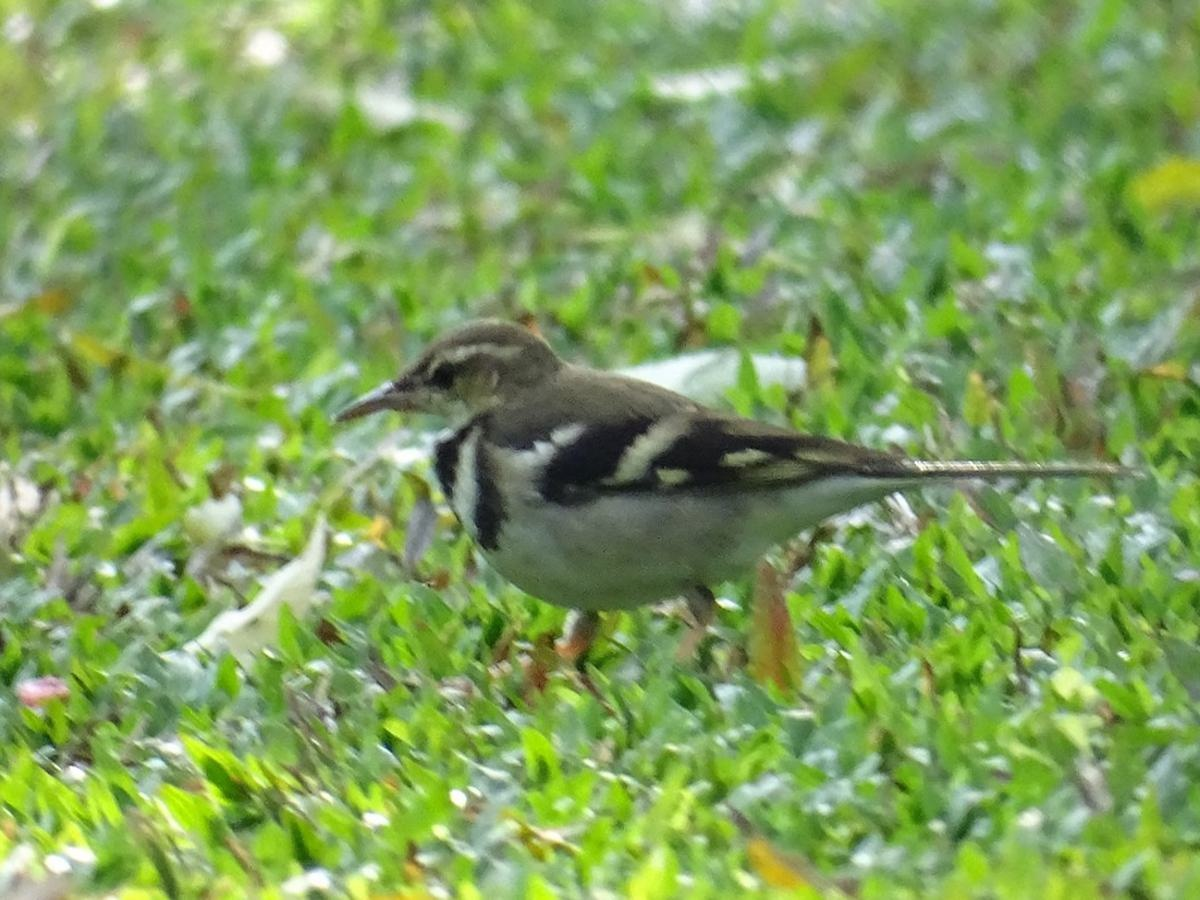wagtail: (297, 268, 1059, 741)
